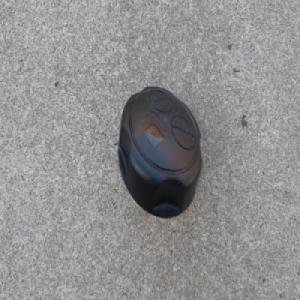FuelCap: (116, 84, 202, 219)
